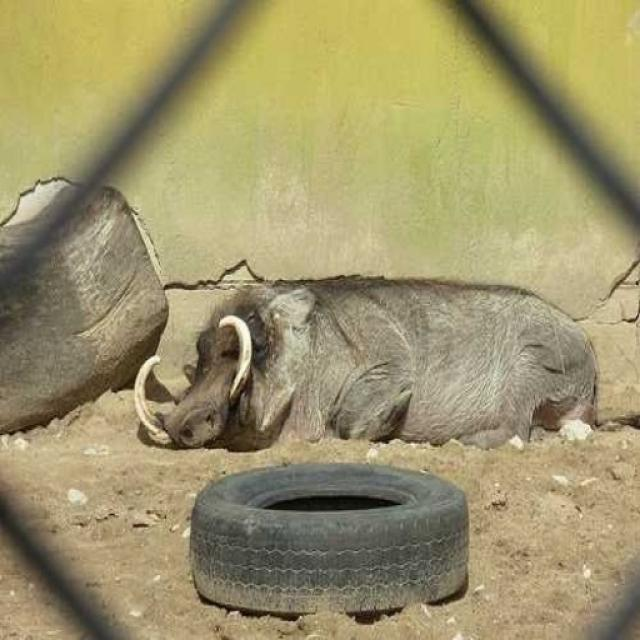pig: (145, 255, 597, 456)
